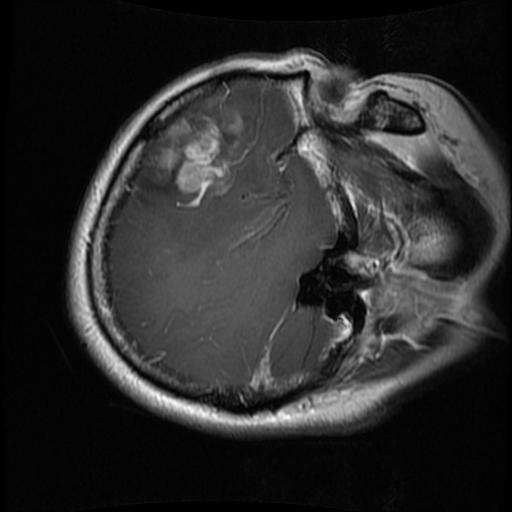glioma: (150, 99, 244, 199)
